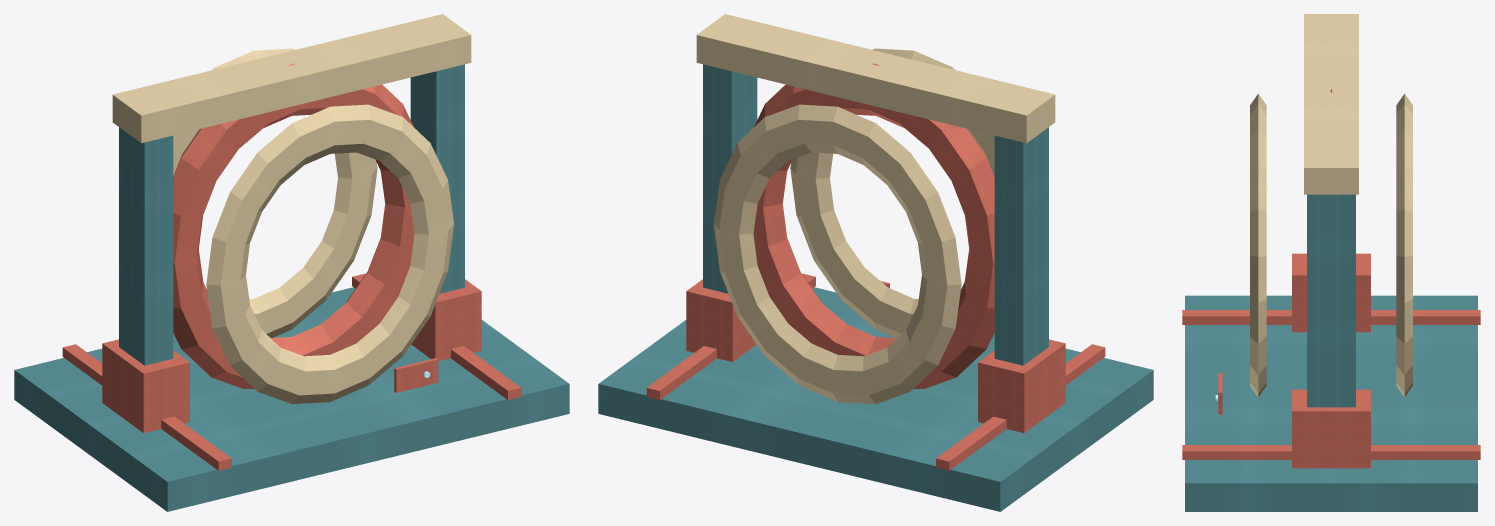
Rendered from atlas100-s073-a01.lod1.glb.
3 renders of one model, left to right at view 1: azimuth 30°, elevation 25°; view 2: azimuth 150°, elevation 25°; view 3: azimuth 270°, elevation 25°, orthographic. The views are drawn at different scales.
Visible parts, largest first — view 1: atlas100-s073-a01:part-000, atlas100-s073-a01:part-010, atlas100-s073-a01:part-008, atlas100-s073-a01:part-007, atlas100-s073-a01:part-003, atlas100-s073-a01:part-009, atlas100-s073-a01:part-005, atlas100-s073-a01:part-004, atlas100-s073-a01:part-006, atlas100-s073-a01:part-001, atlas100-s073-a01:part-002, atlas100-s073-a01:part-011; view 2: atlas100-s073-a01:part-000, atlas100-s073-a01:part-009, atlas100-s073-a01:part-008, atlas100-s073-a01:part-007, atlas100-s073-a01:part-003, atlas100-s073-a01:part-010, atlas100-s073-a01:part-005, atlas100-s073-a01:part-004, atlas100-s073-a01:part-006, atlas100-s073-a01:part-001, atlas100-s073-a01:part-002; view 3: atlas100-s073-a01:part-000, atlas100-s073-a01:part-005, atlas100-s073-a01:part-007, atlas100-s073-a01:part-006, atlas100-s073-a01:part-009, atlas100-s073-a01:part-010, atlas100-s073-a01:part-002, atlas100-s073-a01:part-001, atlas100-s073-a01:part-004.
Part boxes in pixels (x1,y1,x2,y2): atlas100-s073-a01:part-000: (14, 287, 569, 511); atlas100-s073-a01:part-010: (206, 104, 453, 404); atlas100-s073-a01:part-008: (173, 63, 414, 388); atlas100-s073-a01:part-007: (112, 14, 471, 143); atlas100-s073-a01:part-003: (119, 127, 173, 365); atlas100-s073-a01:part-009: (173, 48, 377, 337); atlas100-s073-a01:part-005: (410, 64, 464, 293); atlas100-s073-a01:part-004: (102, 339, 189, 432); atlas100-s073-a01:part-006: (411, 279, 481, 361); atlas100-s073-a01:part-001: (62, 344, 231, 470); atlas100-s073-a01:part-002: (352, 273, 521, 400); atlas100-s073-a01:part-011: (394, 358, 438, 392); atlas100-s073-a01:part-000: (598, 287, 1153, 511); atlas100-s073-a01:part-009: (714, 104, 961, 404); atlas100-s073-a01:part-008: (753, 63, 994, 388); atlas100-s073-a01:part-007: (696, 14, 1055, 143); atlas100-s073-a01:part-003: (994, 127, 1048, 365); atlas100-s073-a01:part-010: (790, 48, 994, 337); atlas100-s073-a01:part-005: (703, 64, 757, 293); atlas100-s073-a01:part-004: (978, 339, 1065, 432); atlas100-s073-a01:part-006: (686, 279, 756, 361); atlas100-s073-a01:part-001: (936, 344, 1105, 470); atlas100-s073-a01:part-002: (646, 273, 815, 400); atlas100-s073-a01:part-000: (1185, 295, 1477, 511); atlas100-s073-a01:part-005: (1307, 194, 1355, 407); atlas100-s073-a01:part-007: (1304, 14, 1358, 194); atlas100-s073-a01:part-006: (1292, 389, 1370, 468); atlas100-s073-a01:part-009: (1396, 93, 1412, 397); atlas100-s073-a01:part-010: (1250, 93, 1266, 397); atlas100-s073-a01:part-002: (1182, 445, 1480, 459); atlas100-s073-a01:part-001: (1182, 310, 1480, 324); atlas100-s073-a01:part-004: (1292, 253, 1370, 332).
Size of the model in its own units: 3.64 by 2.97 by 2.45.
Materials: 4 (4 with a texture image).
